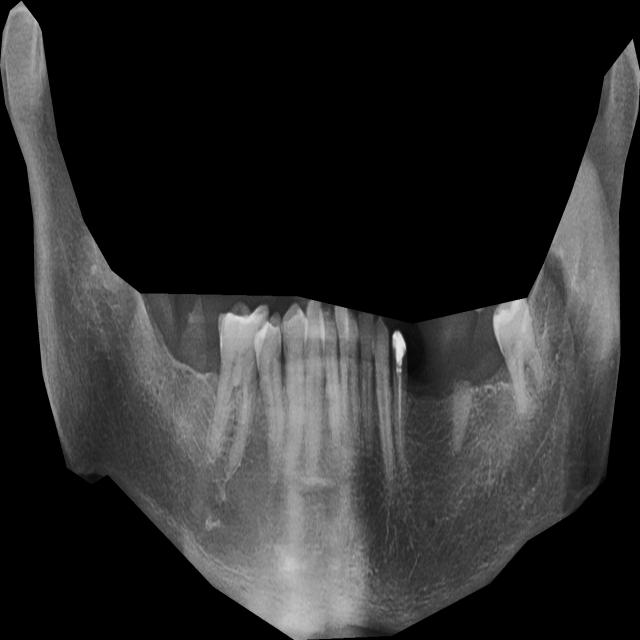mandibula: (0, 1, 640, 640)
